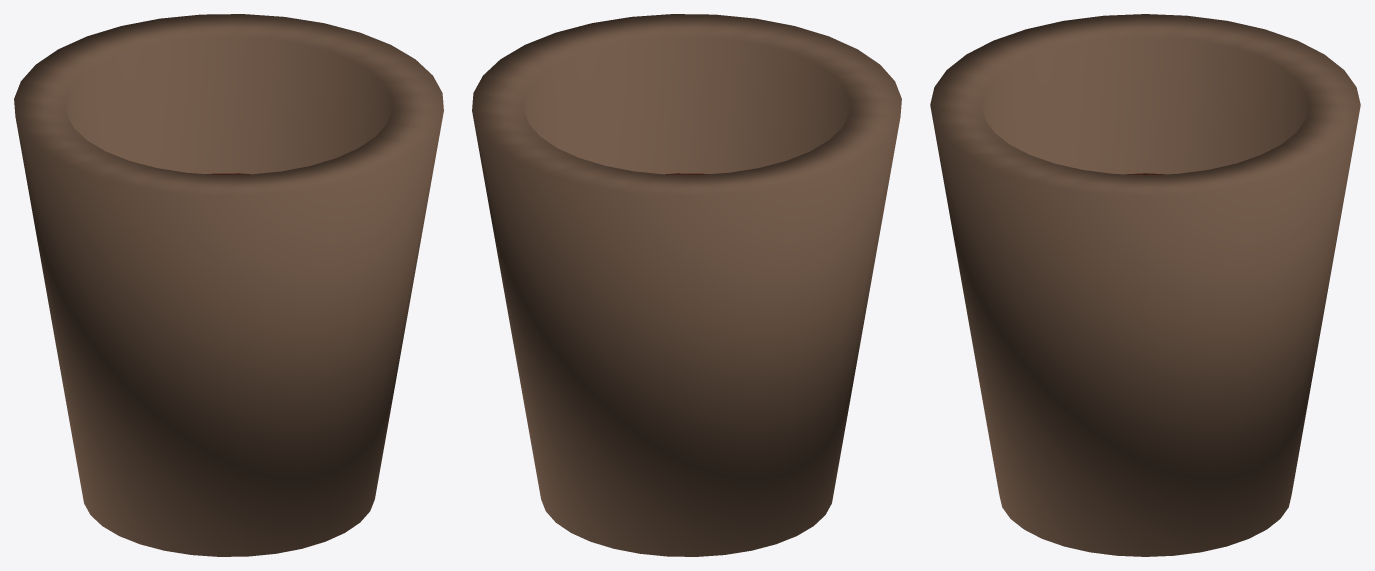
Rendered from plantpot.fbx.
3 renders of one model, left to right at view 1: azimuth 30°, elevation 25°; view 2: azimuth 150°, elevation 25°; view 3: azimuth 270°, elevation 25°, orthographic.
Parts seen in each view (by area): view 1: Cylinder; view 2: Cylinder; view 3: Cylinder.
Part boxes in pixels (<box>): Cylinder: <box>14,14,443,556</box>; Cylinder: <box>472,14,901,556</box>; Cylinder: <box>930,14,1360,556</box>.
Size of the model in its own units: 2 by 2 by 2.
